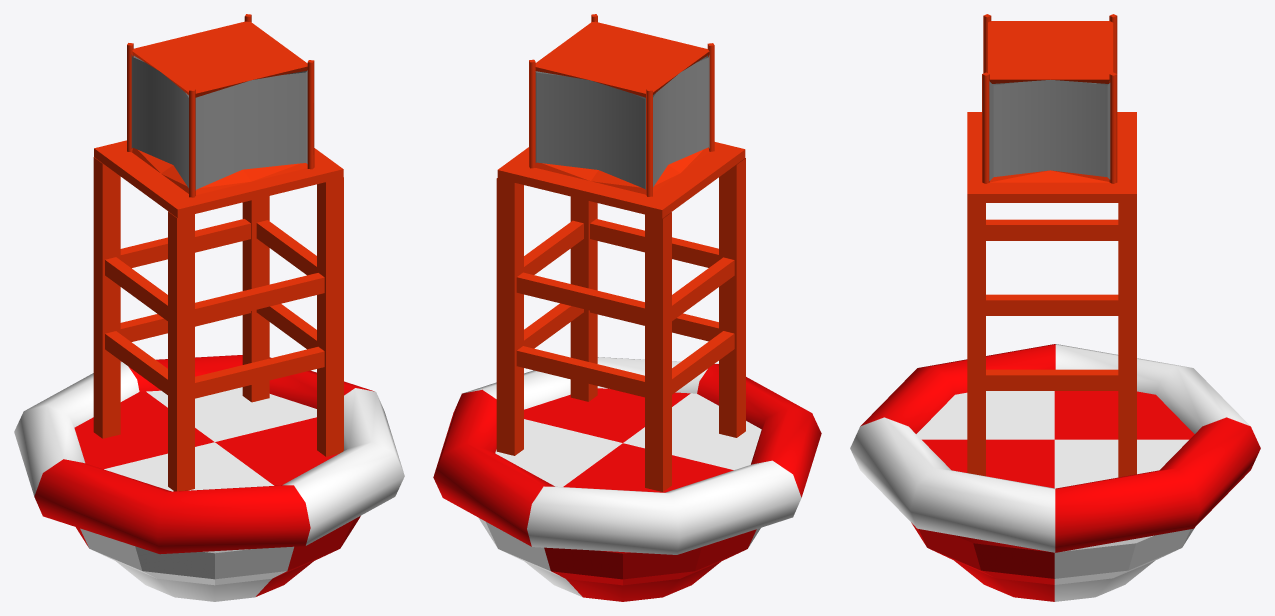
File: Bouy.FBX
3 renders of one model, left to right at view 1: azimuth 30°, elevation 25°; view 2: azimuth 150°, elevation 25°; view 3: azimuth 270°, elevation 25°, orthographic. The views are drawn at different scales.
Parts seen in each view (by area): view 1: Box005, Torus001, Sphere002, Light, TopL, Cylinder005; view 2: Box005, Torus001, Sphere002, Light, TopL, Cylinder005; view 3: Torus001, Sphere002, Box005, Light, TopL, Cylinder005.
Part boxes in pixels (<box>): Box005: <box>93,140,343,491</box>; Torus001: <box>14,355,404,554</box>; Sphere002: <box>74,387,360,601</box>; Light: <box>131,54,307,190</box>; TopL: <box>132,21,307,194</box>; Cylinder005: <box>127,14,314,197</box>; Box005: <box>496,142,745,491</box>; Torus001: <box>433,357,821,554</box>; Sphere002: <box>478,388,761,601</box>; Light: <box>535,55,709,189</box>; TopL: <box>535,21,709,194</box>; Cylinder005: <box>529,14,714,196</box>; Torus001: <box>850,344,1260,552</box>; Sphere002: <box>911,391,1194,601</box>; Box005: <box>967,112,1136,477</box>; Light: <box>989,80,1110,180</box>; TopL: <box>988,21,1113,182</box>; Cylinder005: <box>982,14,1117,183</box>.
Size of the model in its own units: 183 by 267 by 183.
4 materials, 3 textured.
